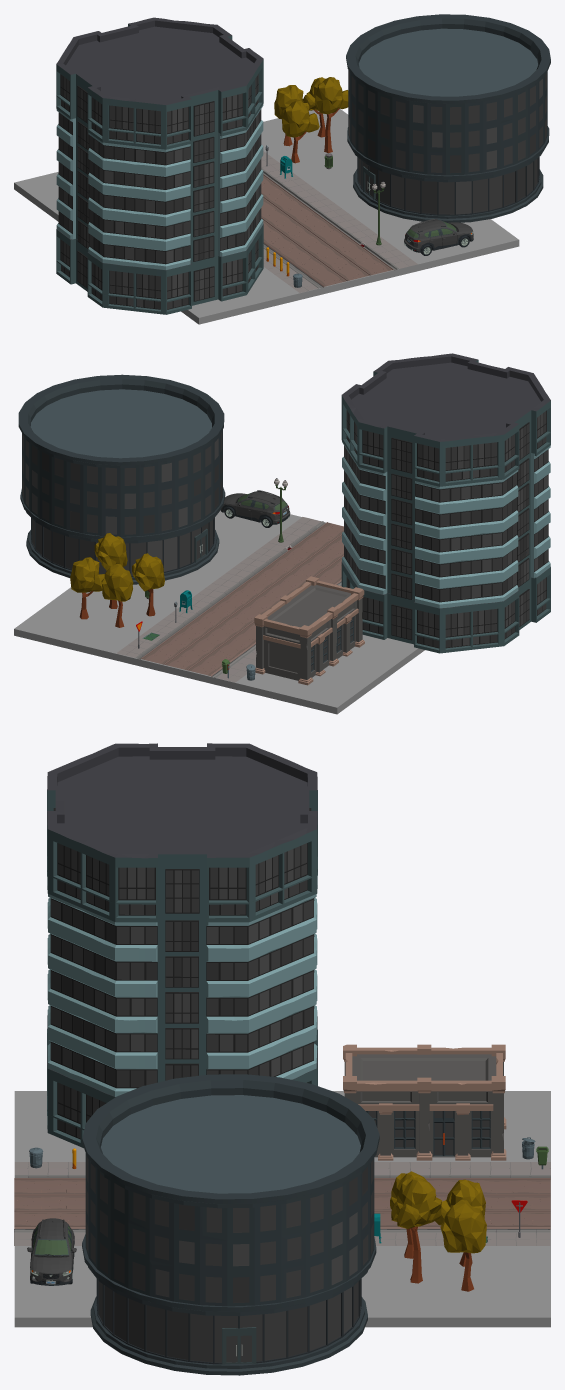
File: City Area 7.fbx
3 views of the same model, one above another, from view 1: azimuth 30°, elevation 25°; view 2: azimuth 150°, elevation 25°; view 3: azimuth 270°, elevation 25° (orthographic). The views are drawn at different scales.
Visible parts, largest first — view 1: SM_Bld_OfficeOctagon_01, SM_Bld_OfficeOctagon_Roof_01, SM_Bld_OfficeRound_Roof_01.001, SM_Bld_OfficeRound_04, Plane.007, SM_Prop_LightPole_Base_02.017, SM_Bld_OfficeOctagon_Roof_01.001, SM_Bld_OfficeRound_Base_01_Glass.001, SM_Bld_OfficeRound_Base_01.001, SM_Veh_Car_Medium_01, SM_Env_Tree_03.025, SM_Env_Tree_03.017 (+2 smaller); view 2: SM_Bld_OfficeOctagon_01, SM_Bld_OfficeOctagon_Roof_01, Plane.007, SM_Prop_LightPole_Base_02.017, SM_Bld_OfficeRound_Roof_01.001, SM_Bld_OfficeRound_04, SM_Bld_OfficeOctagon_Roof_01.001, SM_Bld_Station_03, SM_Bld_OfficeRound_Base_01_Glass.001, SM_Bld_OfficeRound_Base_01.001, SM_Veh_Car_Medium_01, SM_Env_Tree_03.026 (+3 smaller); view 3: SM_Bld_OfficeOctagon_01, SM_Bld_OfficeOctagon_Roof_01, SM_Bld_OfficeRound_Roof_01.001, SM_Bld_OfficeRound_04, Plane.007, SM_Bld_Station_03, SM_Prop_LightPole_Base_02.017, SM_Bld_OfficeRound_Base_01_Glass.001, SM_Bld_OfficeRound_Base_01.001, SM_Bld_OfficeOctagon_Roof_01.001, SM_Env_Tree_03.025, SM_Env_Tree_03.026 (+2 smaller).
Boxes of the visible parts, x1=… form: SM_Bld_OfficeOctagon_01: x1=56, y1=104, x2=263, y2=269; SM_Bld_OfficeOctagon_Roof_01: x1=56, y1=17, x2=263, y2=149; SM_Bld_OfficeRound_Roof_01.001: x1=346, y1=14, x2=550, y2=103; SM_Bld_OfficeRound_04: x1=348, y1=70, x2=547, y2=175; Plane.007: x1=14, y1=109, x2=519, y2=324; SM_Prop_LightPole_Base_02.017: x1=261, y1=145, x2=417, y2=292; SM_Bld_OfficeOctagon_Roof_01.001: x1=56, y1=224, x2=263, y2=314; SM_Bld_OfficeRound_Base_01_Glass.001: x1=358, y1=157, x2=538, y2=214; SM_Bld_OfficeRound_Base_01.001: x1=347, y1=126, x2=549, y2=222; SM_Veh_Car_Medium_01: x1=404, y1=218, x2=473, y2=252; SM_Env_Tree_03.025: x1=315, y1=77, x2=348, y2=153; SM_Env_Tree_03.017: x1=282, y1=100, x2=319, y2=163; SM_Bld_OfficeOctagon_01: x1=342, y1=441, x2=550, y2=608; SM_Bld_OfficeOctagon_Roof_01: x1=341, y1=353, x2=550, y2=486; Plane.007: x1=14, y1=510, x2=424, y2=714; SM_Prop_LightPole_Base_02.017: x1=116, y1=478, x2=343, y2=682; SM_Bld_OfficeRound_Roof_01.001: x1=18, y1=374, x2=224, y2=468; SM_Bld_OfficeRound_04: x1=22, y1=429, x2=222, y2=536; SM_Bld_OfficeOctagon_Roof_01.001: x1=341, y1=561, x2=550, y2=653; SM_Bld_Station_03: x1=254, y1=576, x2=364, y2=685; SM_Bld_OfficeRound_Base_01_Glass.001: x1=32, y1=518, x2=214, y2=575; SM_Bld_OfficeRound_Base_01.001: x1=20, y1=487, x2=225, y2=584; SM_Veh_Car_Medium_01: x1=221, y1=490, x2=290, y2=524; SM_Env_Tree_03.026: x1=70, y1=557, x2=104, y2=619; SM_Bld_OfficeOctagon_01: x1=47, y1=894, x2=317, y2=1096; SM_Bld_OfficeOctagon_Roof_01: x1=47, y1=743, x2=317, y2=922; SM_Bld_OfficeRound_Roof_01.001: x1=82, y1=1074, x2=379, y2=1208; SM_Bld_OfficeRound_04: x1=85, y1=1153, x2=374, y2=1306; Plane.007: x1=14, y1=1091, x2=550, y2=1327; SM_Bld_Station_03: x1=343, y1=1044, x2=506, y2=1160; SM_Prop_LightPole_Base_02.017: x1=14, y1=1146, x2=550, y2=1245; SM_Bld_OfficeRound_Base_01_Glass.001: x1=98, y1=1280, x2=360, y2=1362; SM_Bld_OfficeRound_Base_01.001: x1=82, y1=1234, x2=376, y2=1375; SM_Bld_OfficeOctagon_Roof_01.001: x1=47, y1=1015, x2=317, y2=1148; SM_Env_Tree_03.025: x1=396, y1=1177, x2=441, y2=1283; SM_Env_Tree_03.026: x1=440, y1=1200, x2=486, y2=1291.
Size of the model in its own units: 14816 by 6453 by 10014.
